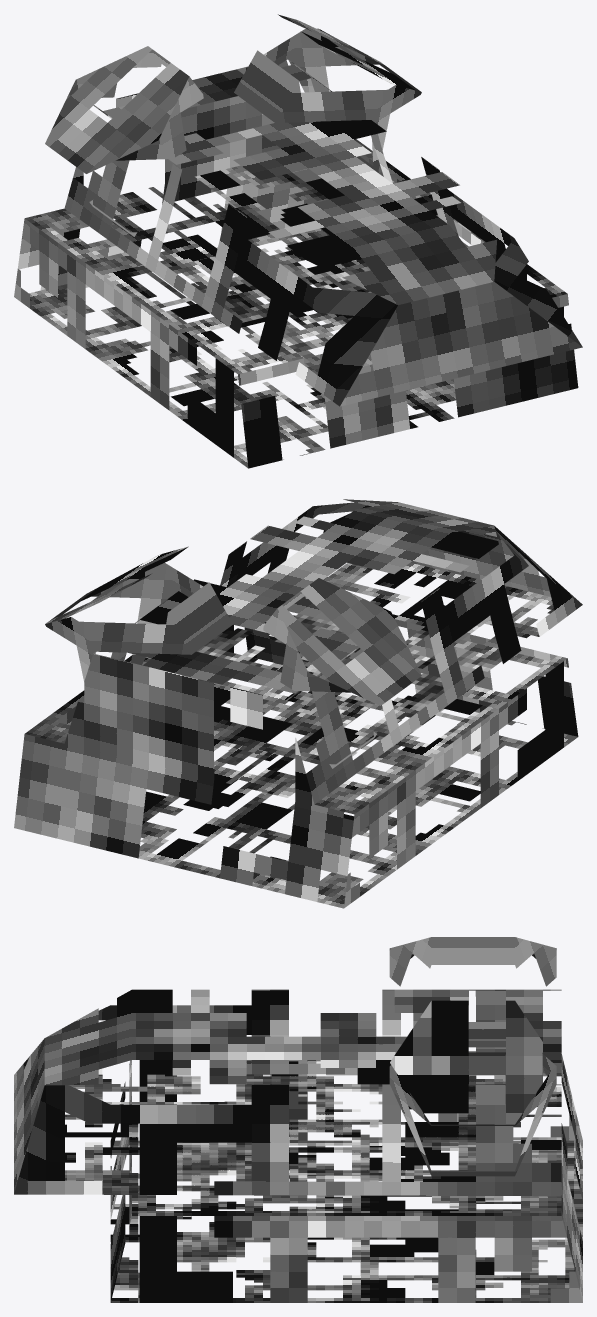
The model's file is minelayer_wreck.glb.
The picture shows the model from 3 angles, top to bottom: view 1: azimuth 30°, elevation 25°; view 2: azimuth 150°, elevation 25°; view 3: azimuth 270°, elevation 25°; orthographic projection.
Parts seen in each view (by area): view 1: MineLayerL1; view 2: MineLayerL1; view 3: MineLayerL1.
Part boxes in pixels (bbox=[...]): MineLayerL1: bbox=[14, 14, 582, 468]; MineLayerL1: bbox=[14, 499, 582, 908]; MineLayerL1: bbox=[14, 937, 582, 1302].
Size of the model in its own units: 4.39 by 3.14 by 6.4.
1 material, 1 textured.
